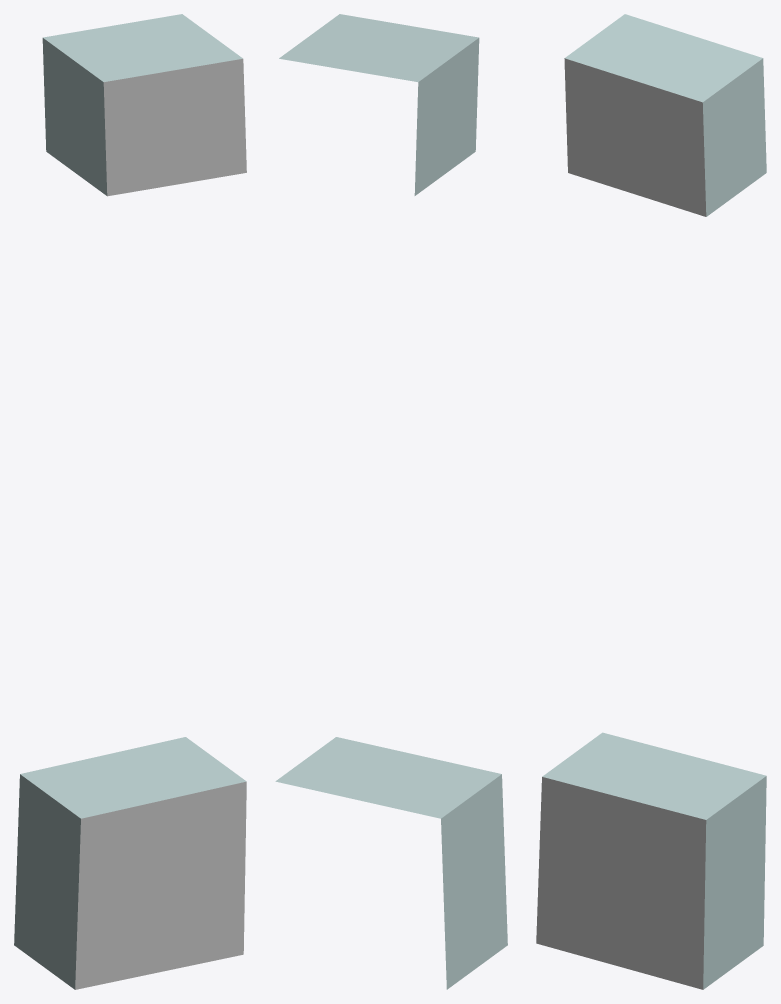
3 views of the same model, side by side, from view 1: azimuth 30°, elevation 25°; view 2: azimuth 150°, elevation 25°; view 3: azimuth 330°, elevation 25° (orthographic).
Parts seen in each view (by area): view 1: 0_2_2_3_3_3_3_0_1; view 2: 0_2_2_3_3_3_3_0_1; view 3: 0_2_2_3_3_3_3_0_1.
Boxes of the visible parts, box(x1,y1,x2,y2) form: 0_2_2_3_3_3_3_0_1: box(14, 14, 246, 989); 0_2_2_3_3_3_3_0_1: box(275, 14, 507, 989); 0_2_2_3_3_3_3_0_1: box(536, 14, 766, 989).
Bounding box in the file's own units: 4.87 × 24.57 × 3.
